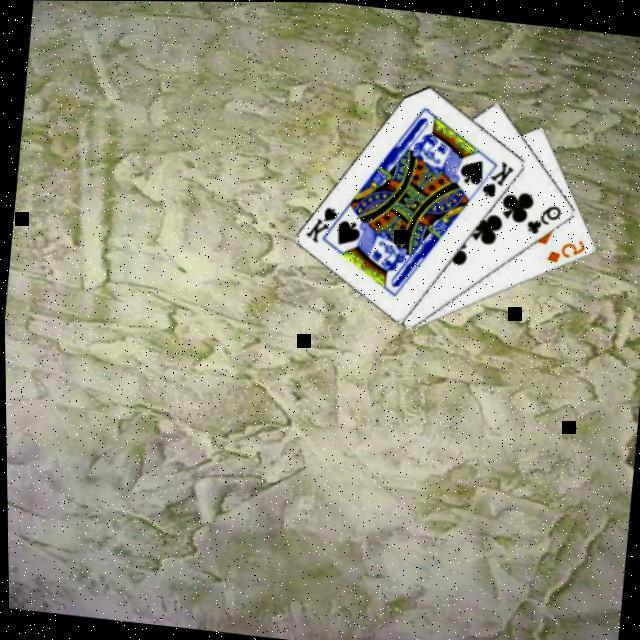5D: (543, 235, 589, 269)
9C: (522, 200, 564, 240)
KS: (301, 203, 348, 249), (478, 157, 519, 203)
